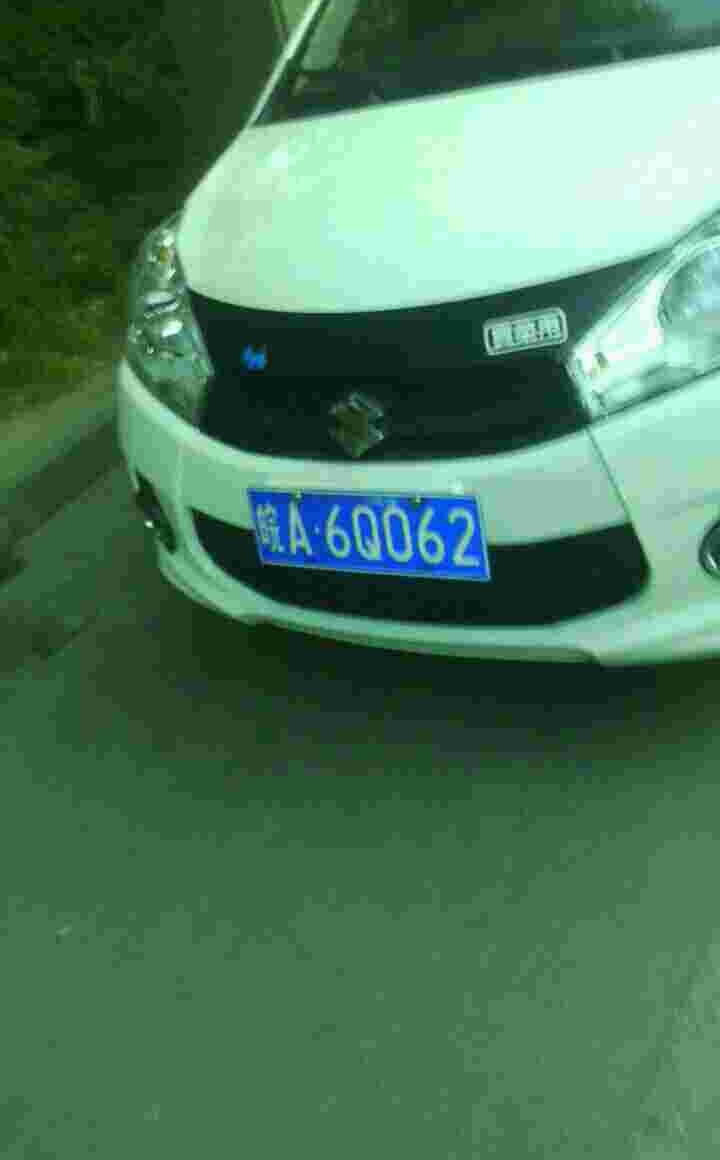license_plate: (252, 487, 485, 584)
